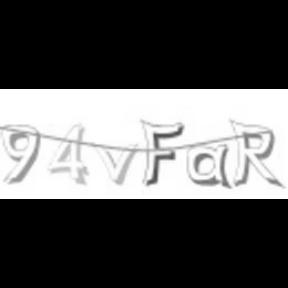4: (47, 123, 89, 185)
9: (1, 123, 44, 185)
F: (138, 119, 186, 189)
R: (229, 116, 283, 188)
a: (184, 142, 232, 189)
v: (96, 141, 138, 185)
